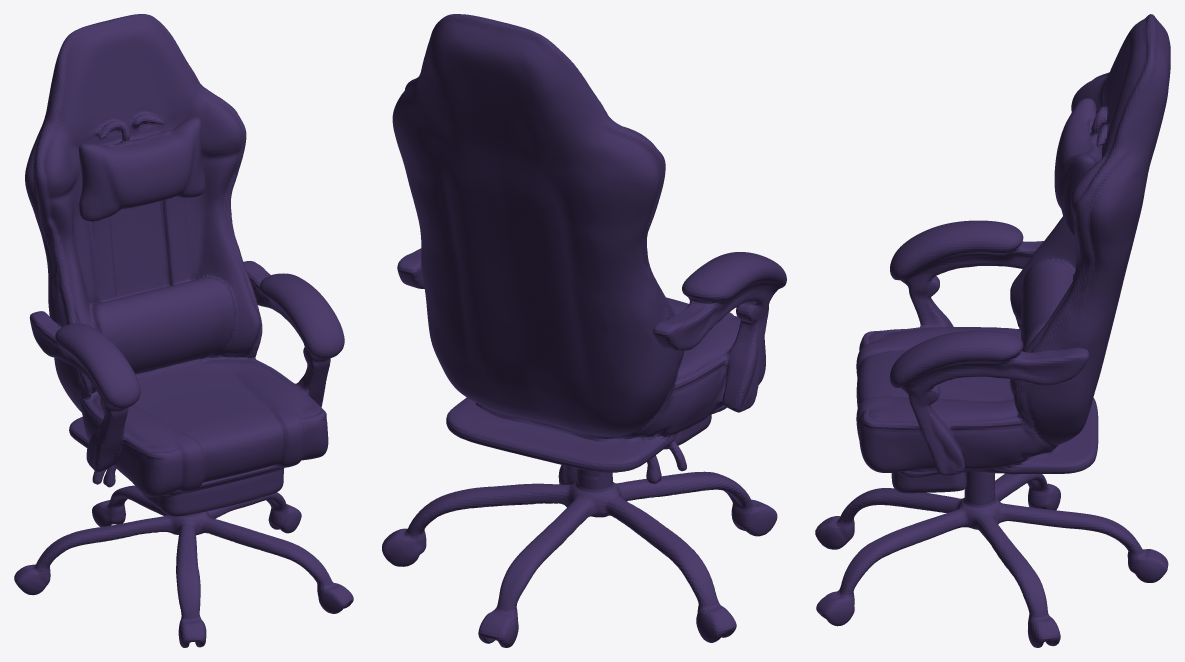
3 renders of one model, left to right at view 1: azimuth 30°, elevation 25°; view 2: azimuth 150°, elevation 25°; view 3: azimuth 270°, elevation 25°, orthographic. The views are drawn at different scales.
Visible parts, largest first — view 1: tmpf7w9w_r4ply; view 2: tmpf7w9w_r4ply; view 3: tmpf7w9w_r4ply.
Part boxes in pixels (box(x1,y1,x2,y2)): tmpf7w9w_r4ply: box(14, 14, 353, 647); tmpf7w9w_r4ply: box(382, 14, 786, 647); tmpf7w9w_r4ply: box(815, 14, 1170, 647).
Bounding box in the file's own units: 0.7782 × 1.32 × 0.7756.
